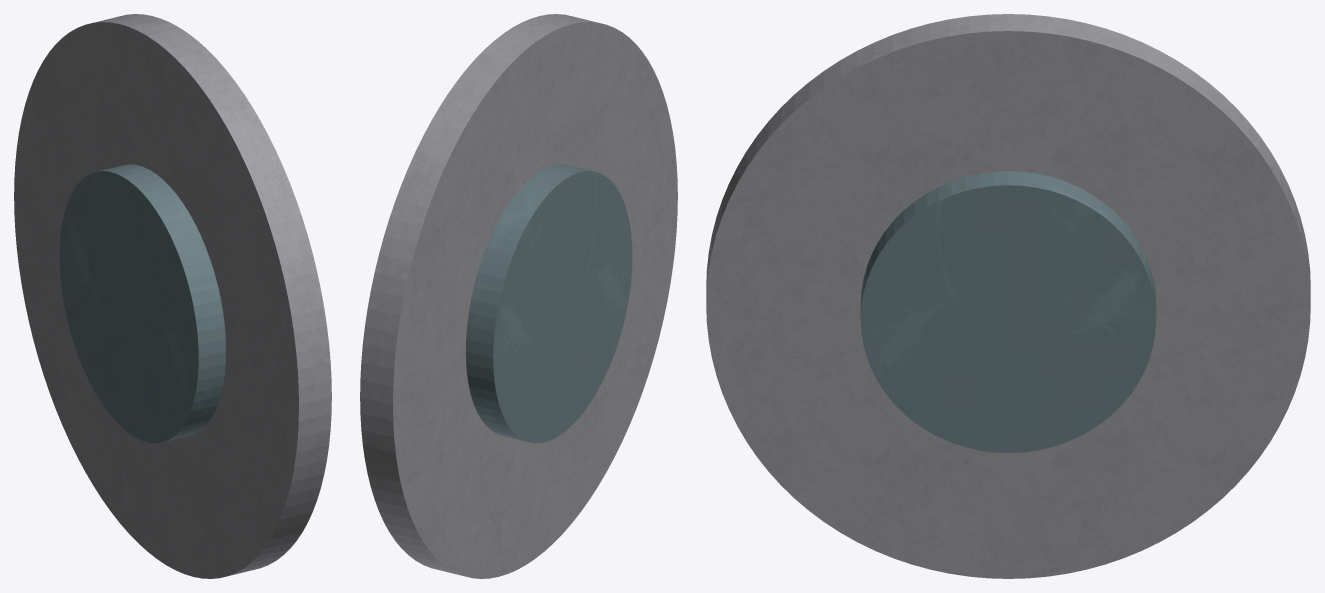
The model's file is brake_disc_ok.glb.
The picture shows the model from 3 angles, left to right: view 1: azimuth 30°, elevation 25°; view 2: azimuth 150°, elevation 25°; view 3: azimuth 270°, elevation 25°; orthographic projection. The views are drawn at different scales.
Parts seen in each view (by area): view 1: brake_disc_ok; view 2: brake_disc_ok; view 3: brake_disc_ok.
Boxes of the visible parts, x1,y1,x2,y2 form: brake_disc_ok: [14, 14, 331, 578]; brake_disc_ok: [360, 14, 677, 578]; brake_disc_ok: [706, 14, 1310, 578].
Bounding box in the file's own units: 0.16 × 0.9 × 0.9.
2 materials, 2 textured.
